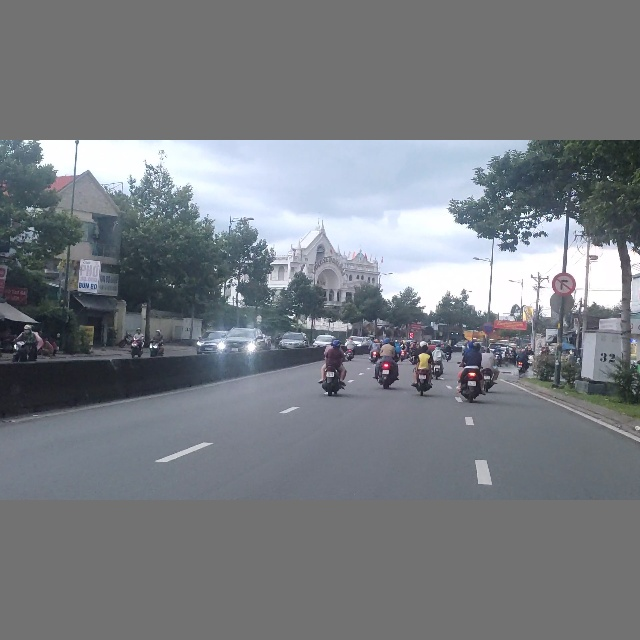P.123b: (551, 272, 576, 295)
P.130: (483, 322, 494, 334)
